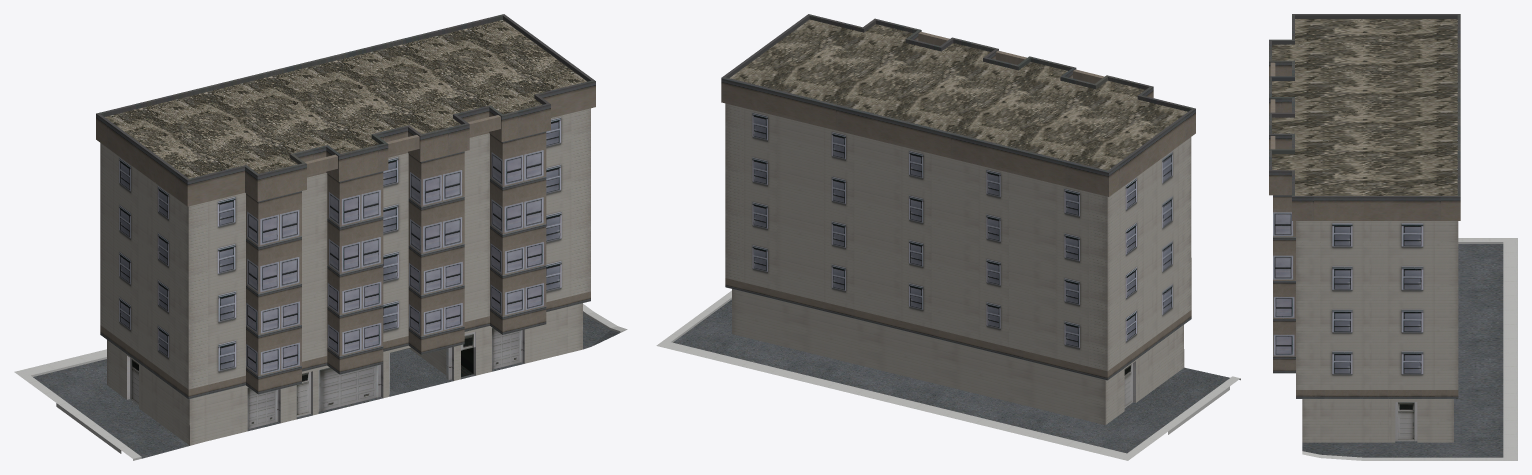
The model's file is bigboxtmp03.obj.
3 views of the same model, side by side, from view 1: azimuth 30°, elevation 25°; view 2: azimuth 150°, elevation 25°; view 3: azimuth 270°, elevation 25° (orthographic). The views are drawn at different scales.
Visible parts, largest first — view 1: bigboxtmp03; view 2: bigboxtmp03; view 3: bigboxtmp03.
Part boxes in pixels (box(x1,y1,x2,y2)): bigboxtmp03: box(14, 14, 627, 460); bigboxtmp03: box(656, 14, 1240, 460); bigboxtmp03: box(1269, 14, 1517, 460).
Bounding box in the file's own units: 46.56 × 24.4 × 21.96.
Materials: 10 (10 with a texture image).
